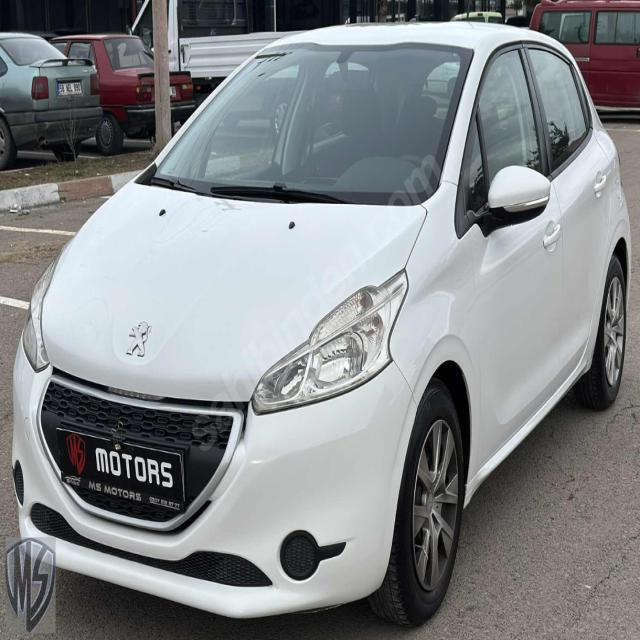pegout: (123, 314, 153, 363)
